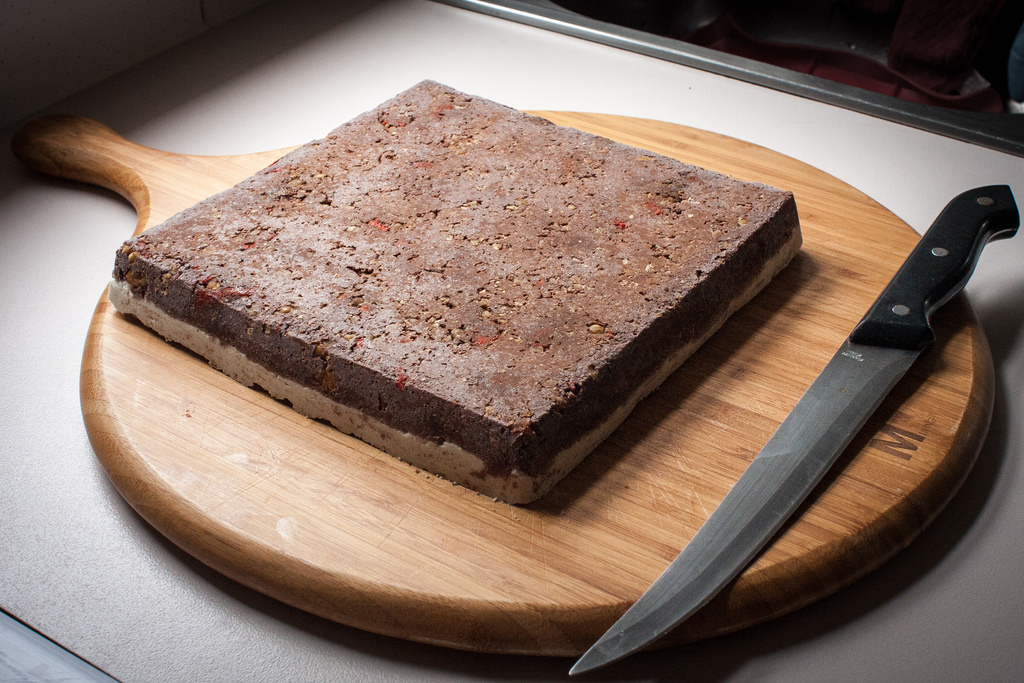slice of bread: (139, 74, 770, 487)
